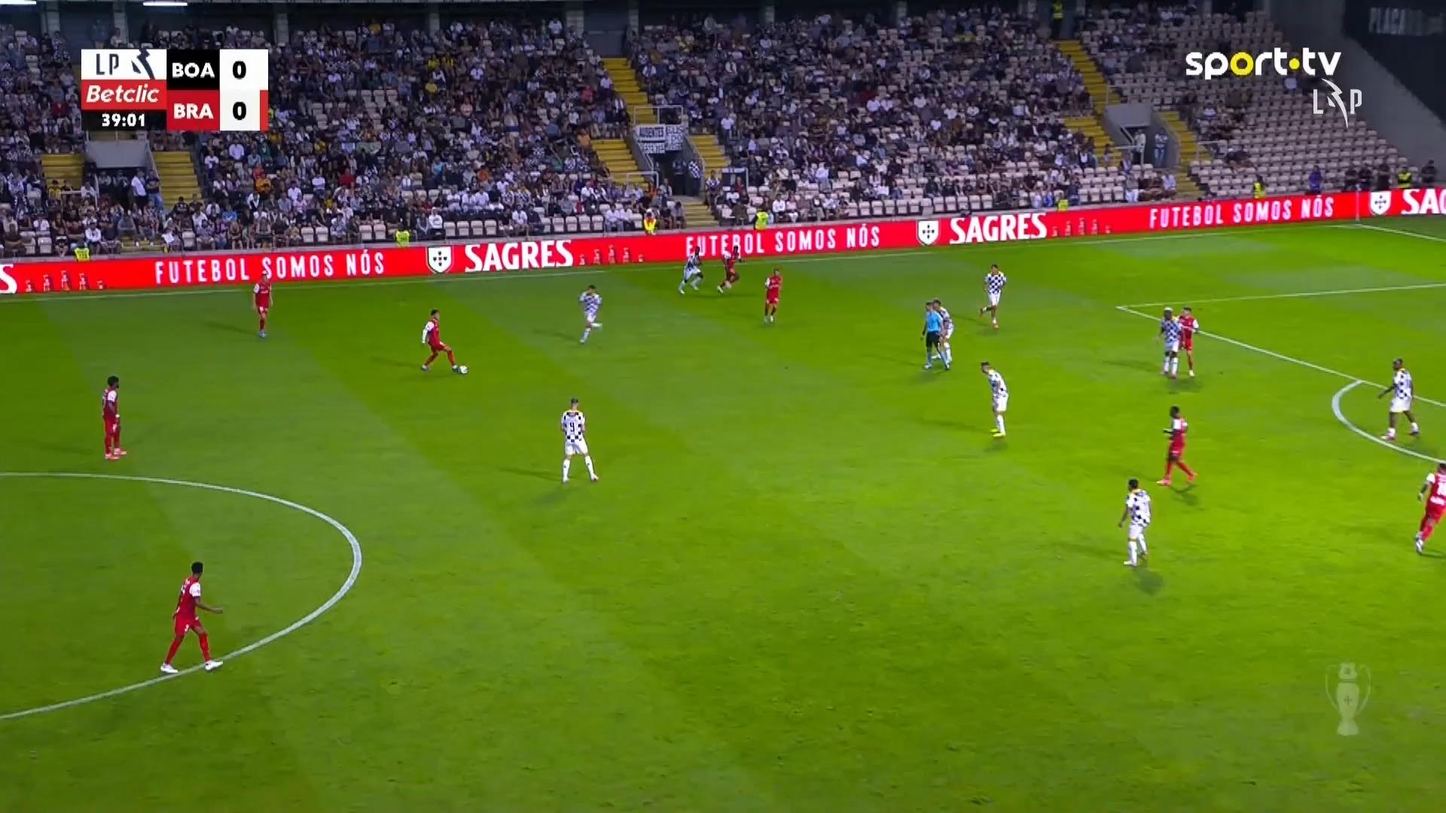ball: (458, 365, 468, 374)
player: (159, 560, 224, 674), (1376, 357, 1420, 441), (1155, 404, 1197, 486), (559, 397, 598, 483), (1117, 477, 1152, 566), (1412, 460, 1444, 555), (419, 309, 462, 373), (100, 375, 127, 461), (979, 361, 1008, 437), (1155, 306, 1182, 379), (978, 263, 1006, 329), (1176, 305, 1199, 376), (932, 298, 954, 368), (578, 283, 602, 344), (252, 272, 273, 337), (677, 244, 703, 294), (715, 244, 741, 293), (762, 267, 782, 324)
referee: (920, 300, 950, 370)
